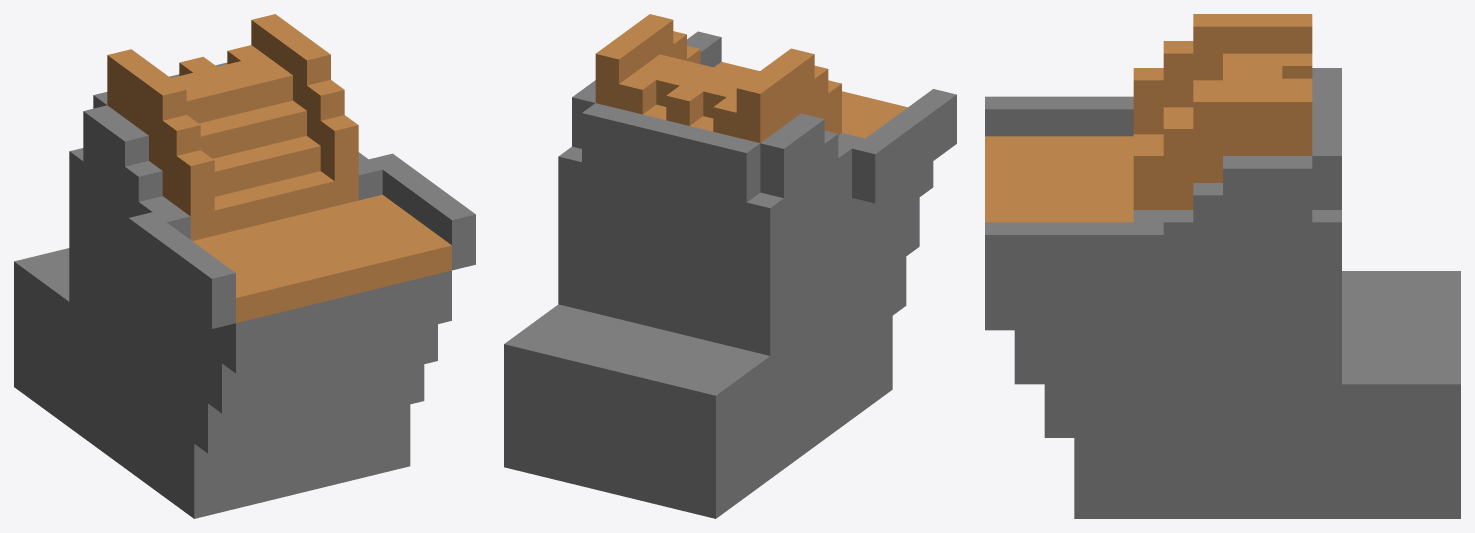
File: bridge.obj
The picture shows the model from 3 angles, left to right: view 1: azimuth 30°, elevation 25°; view 2: azimuth 150°, elevation 25°; view 3: azimuth 270°, elevation 25°; orthographic projection. The views are drawn at different scales.
Size of the model in its own units: 1.1 by 1.5 by 1.6.
